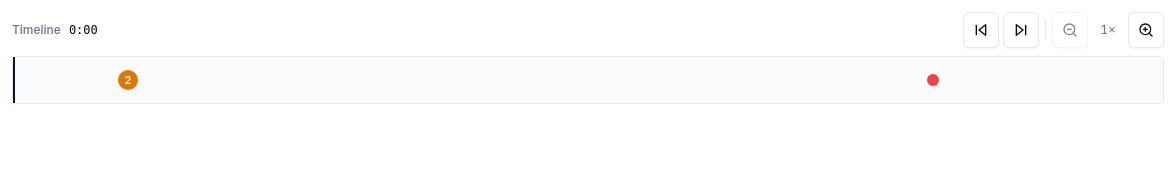
it: Timeline › zooms the track in and out
Expected: the button named "Zoom out" is disabled, [1052, 12, 1088, 48]
Click the button named "Zoom in".
click(1146, 30)  # box [1128, 12, 1164, 48]
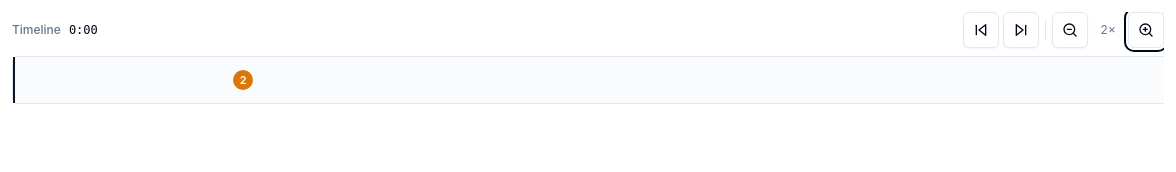
Result: the text "2×" is shown at [1100, 22, 1116, 37]
Result: the button named "Zoom out" is enabled at [1052, 12, 1088, 48]
